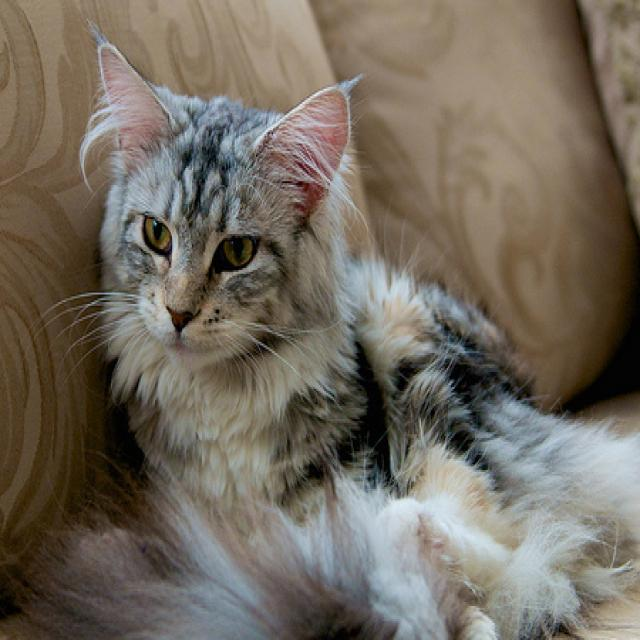Maine Coon: (15, 34, 640, 640)
